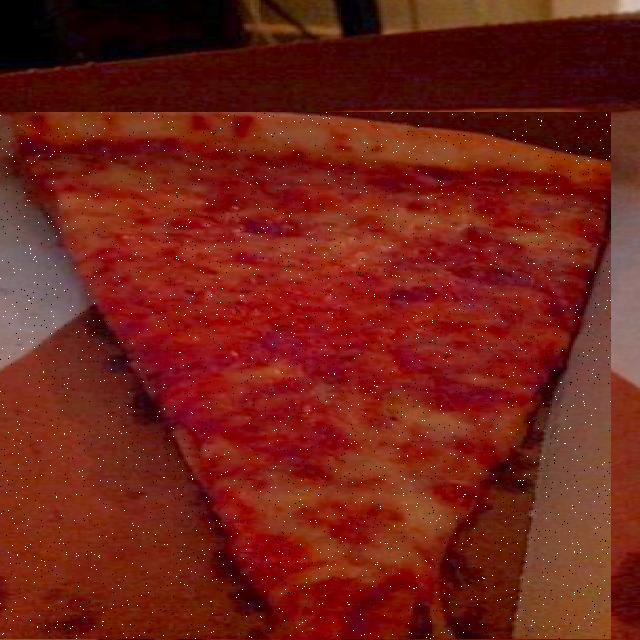Pizza: (0, 113, 611, 640)
